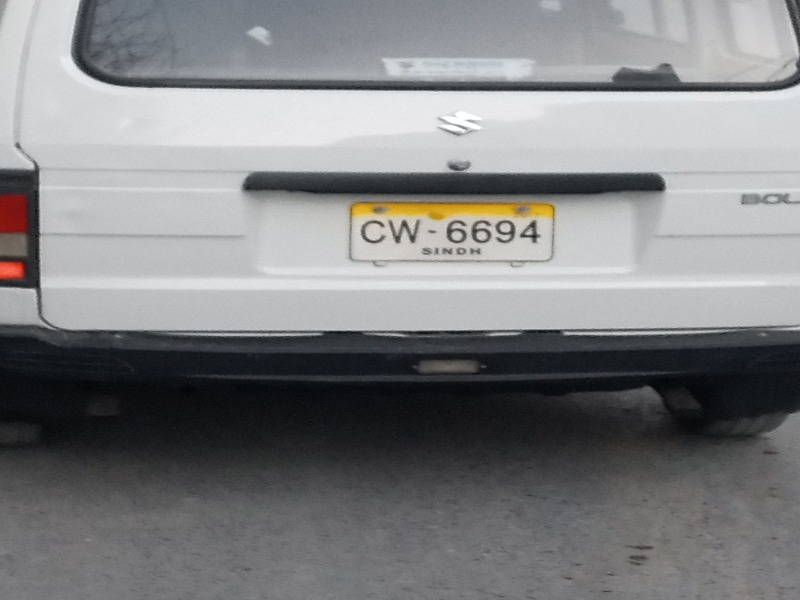License Plate: (347, 197, 558, 266)
